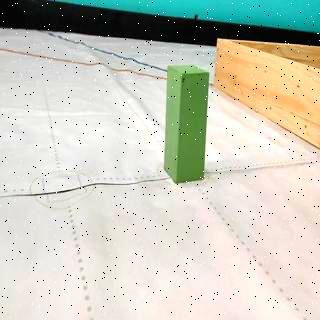greenbox: (162, 62, 210, 186)
